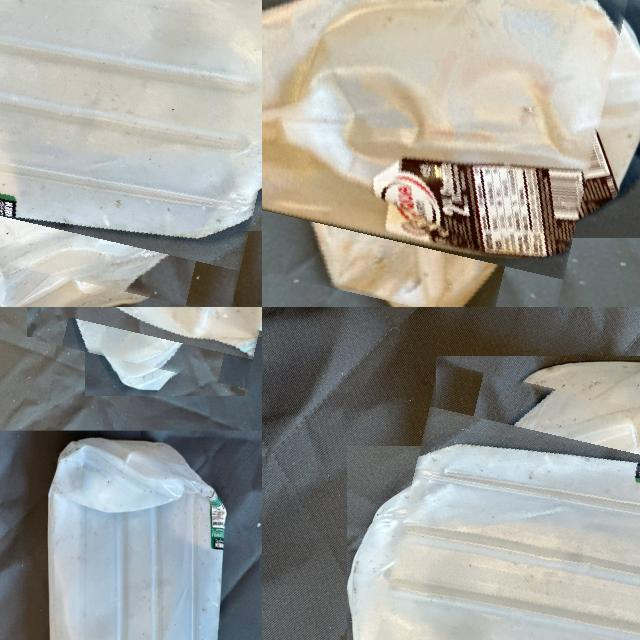milk-jug: (262, 0, 621, 307), (0, 0, 262, 296), (372, 381, 640, 640), (48, 437, 223, 640), (45, 307, 262, 377)
